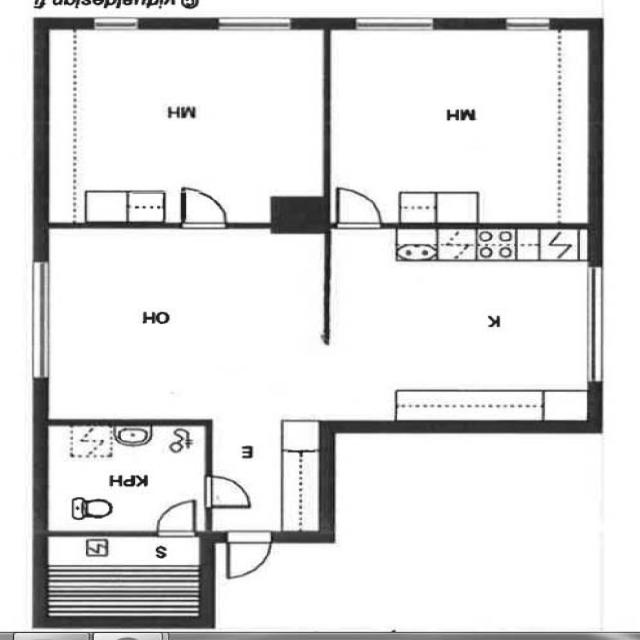door: (171, 182, 237, 232), (327, 183, 389, 233), (221, 530, 276, 582), (199, 473, 257, 510), (152, 495, 201, 538)
window: (33, 532, 212, 626), (18, 256, 62, 386), (577, 263, 611, 388), (344, 10, 444, 38), (209, 11, 301, 37), (84, 11, 150, 36), (496, 14, 560, 36)
zone: (31, 224, 339, 423), (316, 226, 601, 417), (325, 22, 592, 224), (59, 25, 330, 224), (42, 419, 208, 534), (38, 533, 207, 625)
